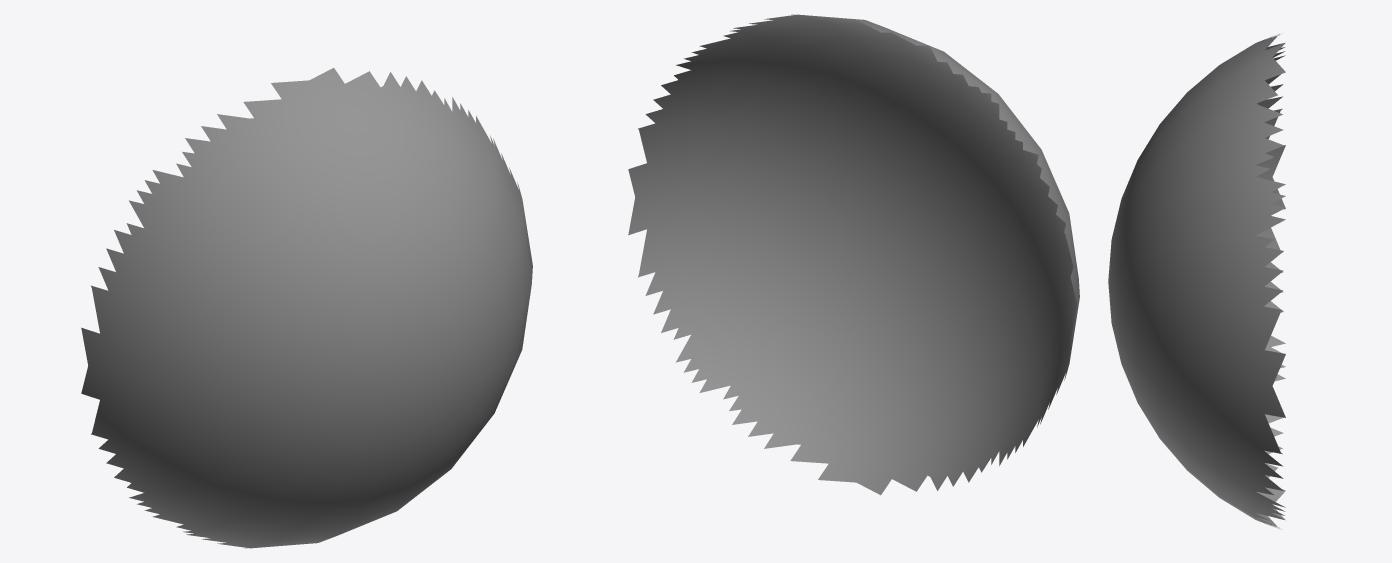
File: balloon.obj
The picture shows the model from 3 angles, left to right: view 1: azimuth 30°, elevation 25°; view 2: azimuth 150°, elevation 25°; view 3: azimuth 270°, elevation 25°; orthographic projection. The views are drawn at different scales.
Parts seen in each view (by area): view 1: polygon0; view 2: polygon0; view 3: polygon0.
Part boxes in pixels (x1=…): polygon0: x1=81, y1=67, x2=532, y2=548; polygon0: x1=628, y1=14, x2=1079, y2=495; polygon0: x1=1108, y1=33, x2=1285, y2=529.
Size of the model in its own units: 30.48 by 30.48 by 15.24.
